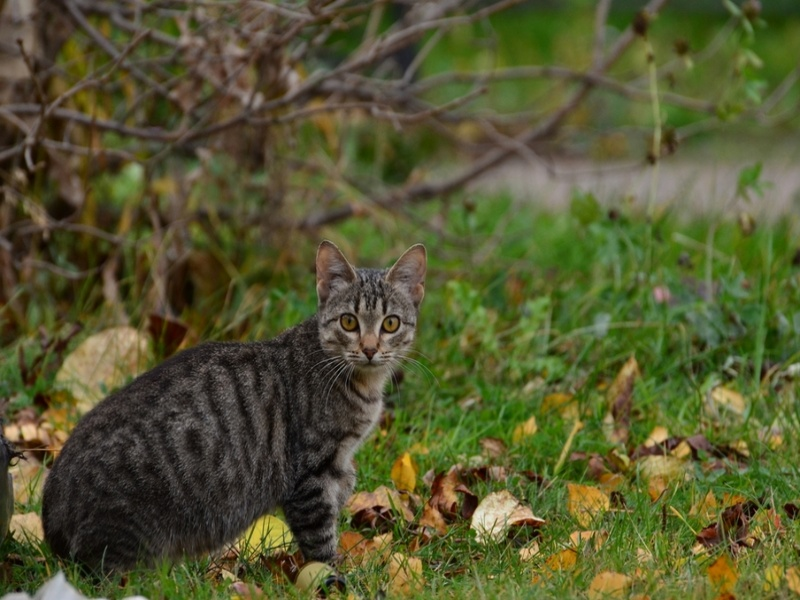cat: (43, 233, 429, 583)
